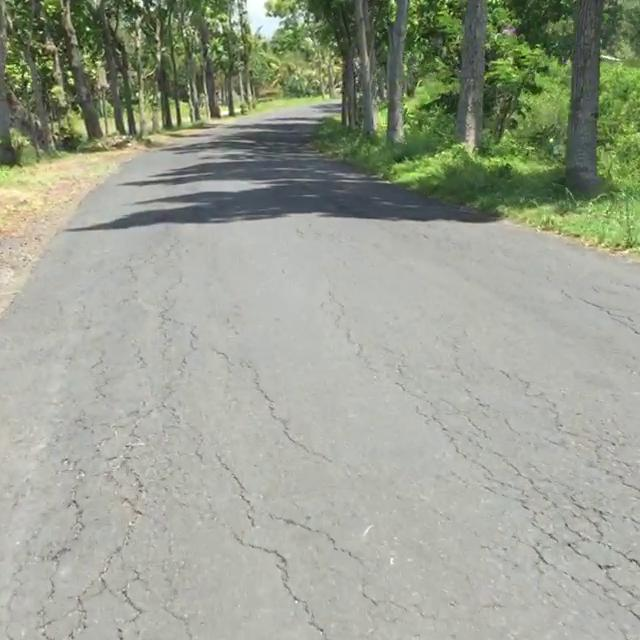retak_kulit_buaya: (18, 368, 164, 640), (494, 425, 640, 640), (396, 357, 570, 513)
retak_memanjang: (210, 353, 331, 467), (235, 532, 358, 640), (204, 443, 266, 544), (570, 290, 640, 345)
